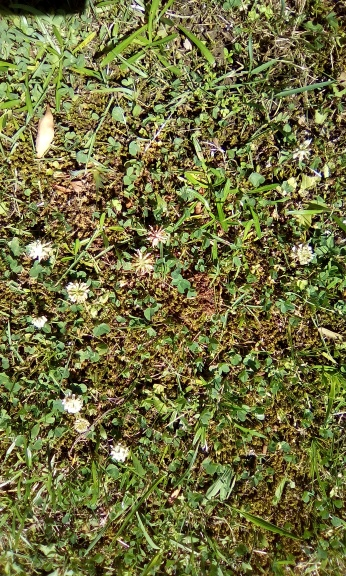4leaf: (170, 273, 191, 294)
